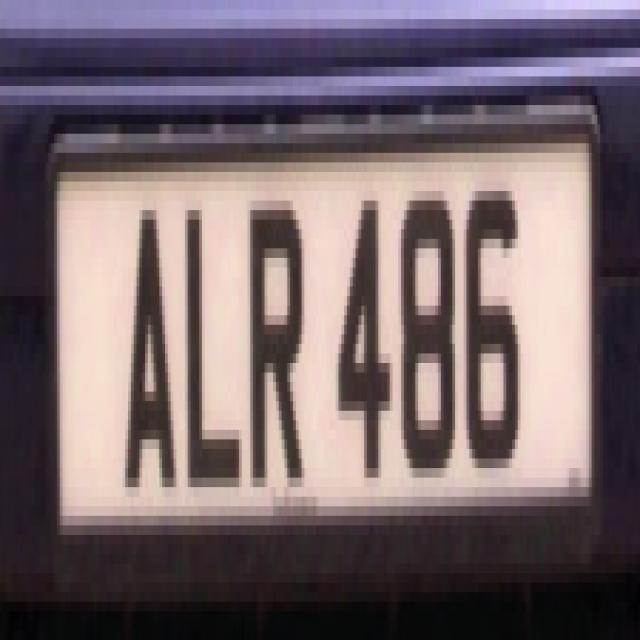4: (332, 166, 394, 497)
6: (464, 160, 524, 473)
8: (398, 164, 460, 494)
A: (118, 192, 180, 512)
L: (186, 175, 244, 520)
R: (246, 198, 314, 516)
